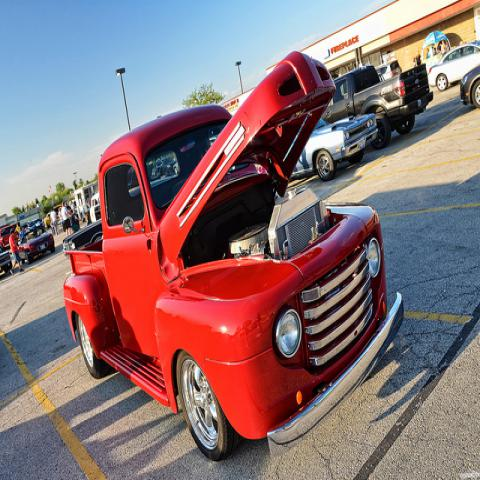car: (289, 114, 376, 181), (427, 40, 479, 93), (20, 222, 57, 262), (460, 67, 480, 111), (375, 59, 401, 81), (0, 242, 13, 276), (88, 193, 98, 223)
truck: (62, 47, 408, 466), (322, 63, 433, 151)
